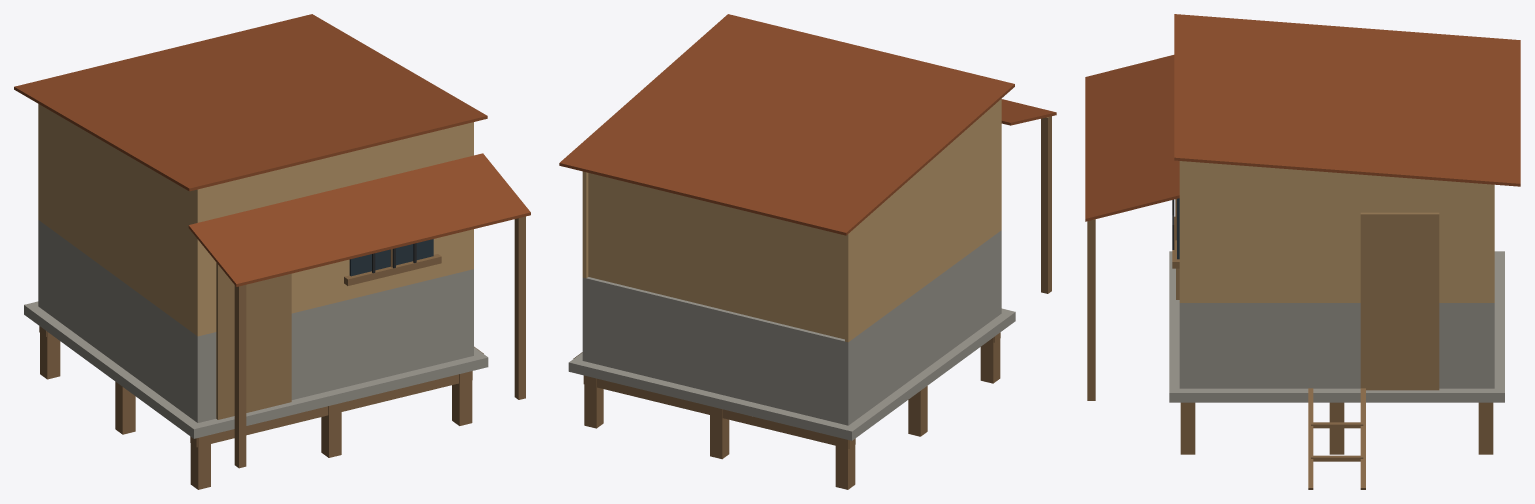
File: BAY_I_SariSari_S.glb
3 views of the same model, side by side, from view 1: azimuth 30°, elevation 25°; view 2: azimuth 150°, elevation 25°; view 3: azimuth 270°, elevation 25° (orthographic). The views are drawn at different scales.
Parts seen in each view (by area): view 1: BAY_I_SariSari_S; view 2: BAY_I_SariSari_S; view 3: BAY_I_SariSari_S.
Part boxes in pixels (<box>): BAY_I_SariSari_S: <box>14,14,530,489</box>; BAY_I_SariSari_S: <box>559,14,1056,489</box>; BAY_I_SariSari_S: <box>1085,14,1520,489</box>.
Size of the model in its own units: 3.94 by 3.18 by 4.15.
Materials: 1 (1 with a texture image).
